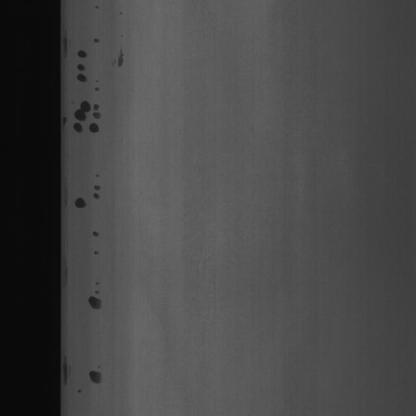oil_spot: (71, 25, 102, 146), (71, 173, 104, 220), (87, 279, 107, 316), (82, 362, 105, 392), (116, 34, 126, 71)
